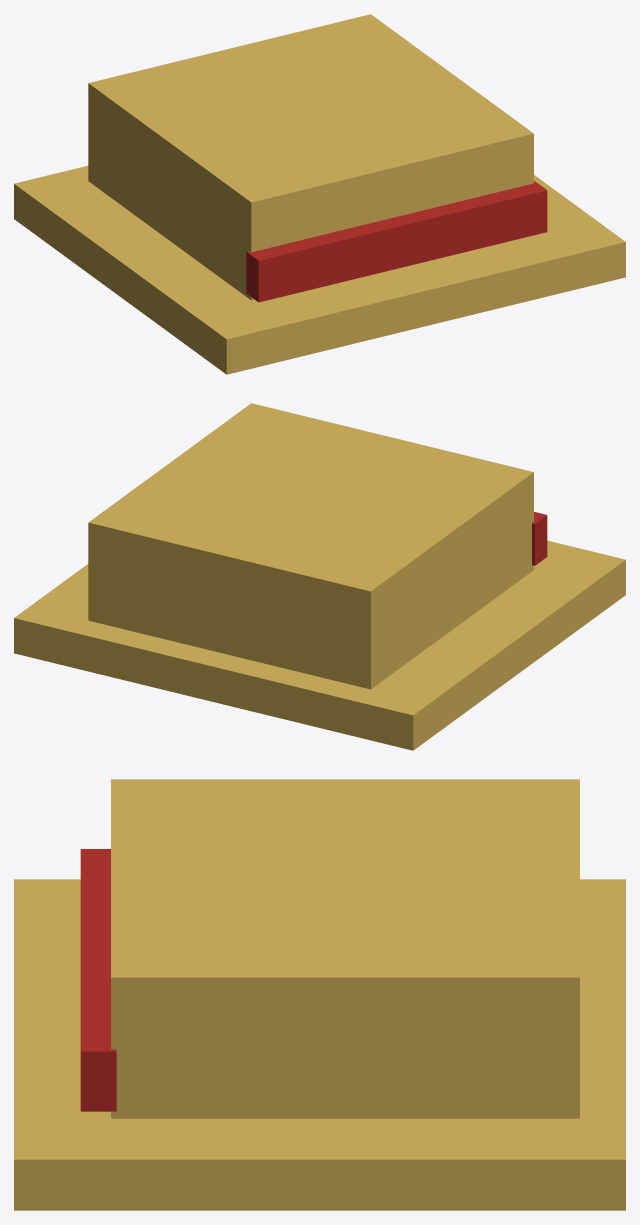
The model's file is straw_boater.glb.
3 renders of one model, top to bottom at view 1: azimuth 30°, elevation 25°; view 2: azimuth 150°, elevation 25°; view 3: azimuth 270°, elevation 25°, orthographic. The views are drawn at different scales.
Visible parts, largest first — view 1: straw_boater; view 2: straw_boater; view 3: straw_boater.
Boxes of the visible parts, x1,y1,x2,y2 form: straw_boater: [14, 14, 625, 374]; straw_boater: [14, 403, 625, 750]; straw_boater: [14, 779, 625, 1210].
Size of the model in its own units: 0.65 by 0.2075 by 0.6.
